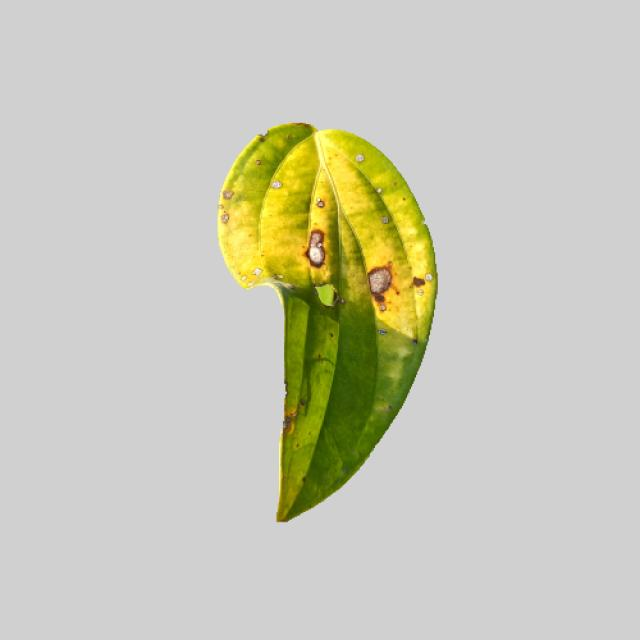leaf-blight: (196, 122, 456, 522)
